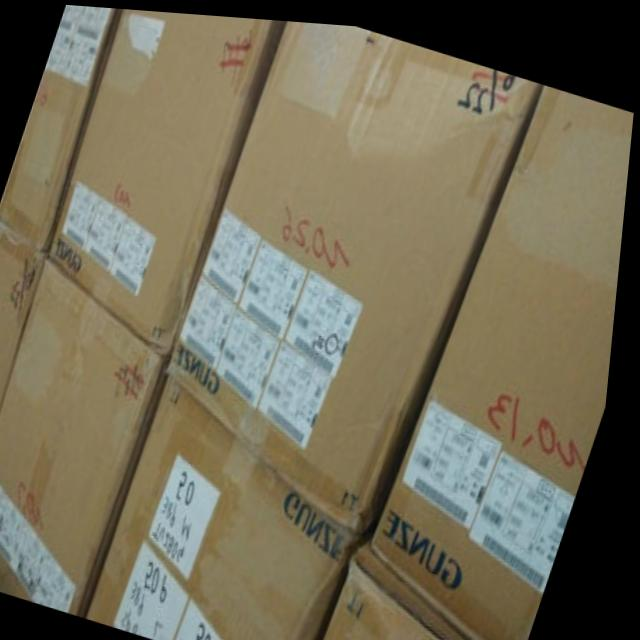box: (173, 17, 541, 527), (380, 78, 635, 640), (51, 7, 286, 350), (97, 371, 377, 640), (0, 260, 179, 616), (0, 4, 120, 251), (332, 537, 488, 640), (0, 214, 49, 434)
